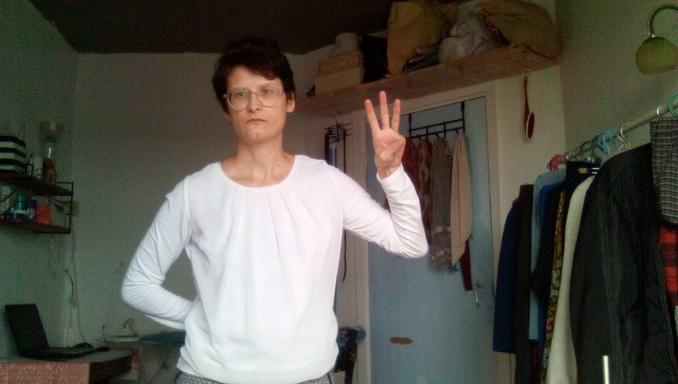three: (360, 88, 412, 175)
